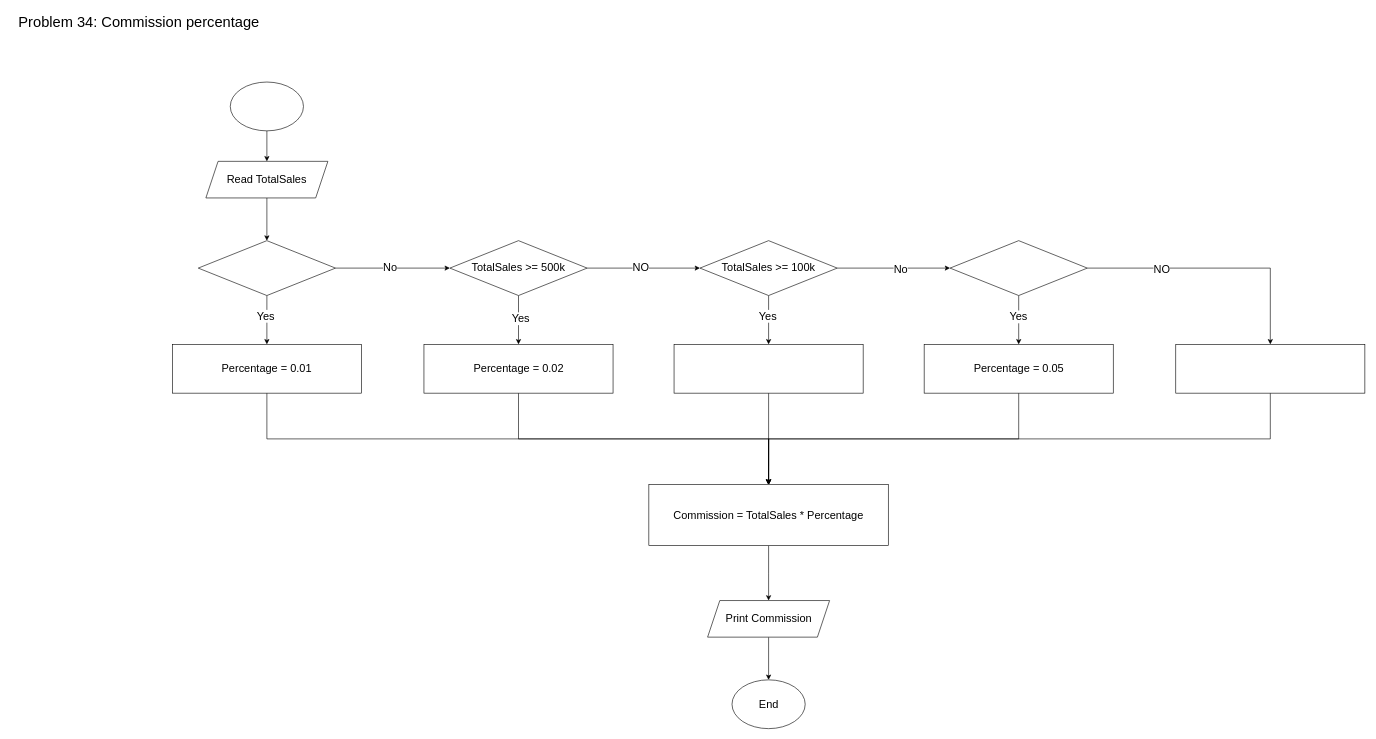
Image size: 1376x739. Some labels were removed from this diagram. The shapes that lost their labels are listed below. From the top down, each one's centre as x and y in pixels, then its label:
At point 266,106: "Start".
At point 267,268: "TotalSales >= 1M".
At point 1018,268: "TotalSales >= 50k".
At point 768,368: "Percentage = 0.03".
At point 1270,368: "Percentage = 0".
